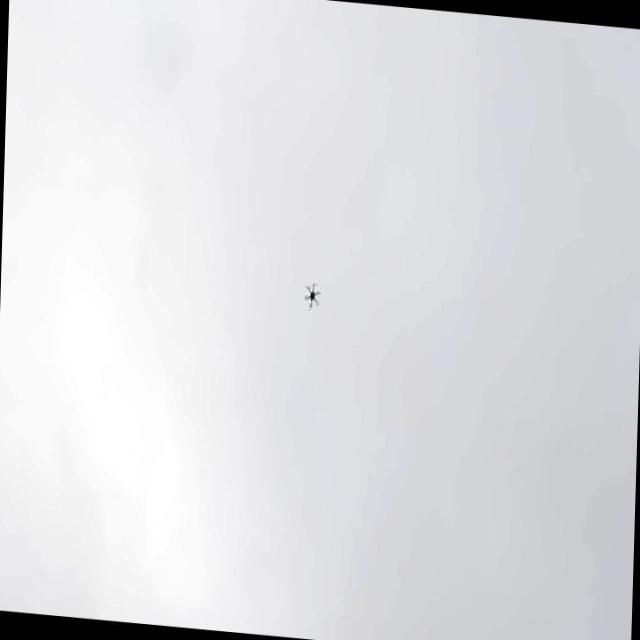drone: (301, 268, 331, 321)
